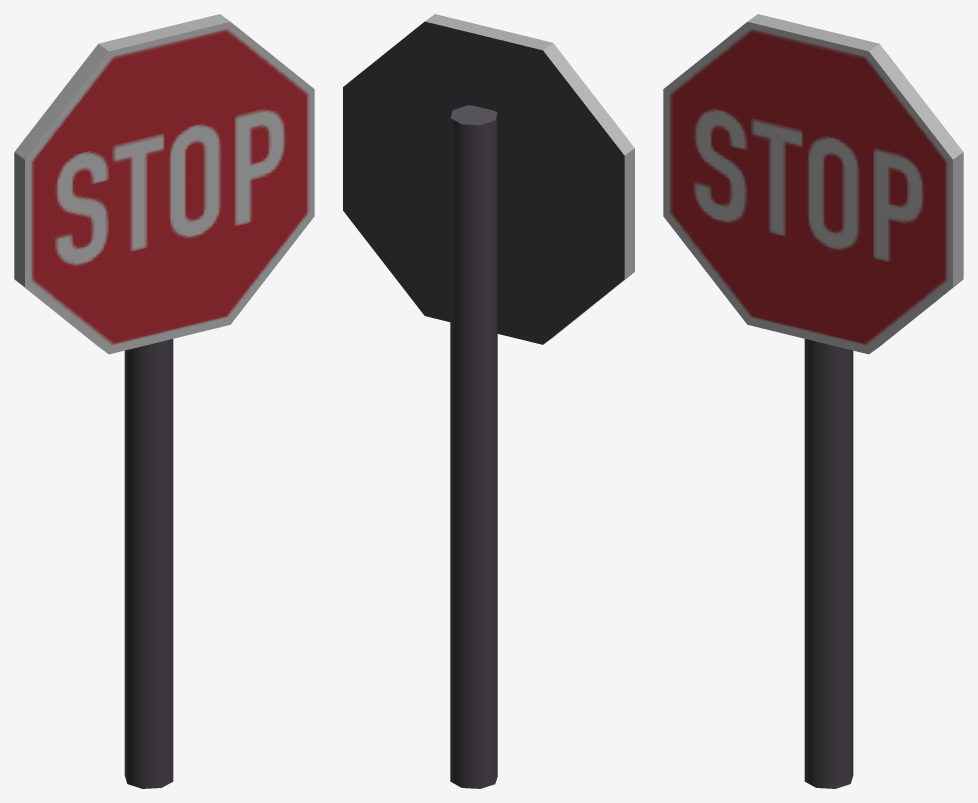
File: Sign_Stop.fbx
The picture shows the model from 3 angles, left to right: view 1: azimuth 30°, elevation 25°; view 2: azimuth 150°, elevation 25°; view 3: azimuth 330°, elevation 25°; orthographic projection. The views are drawn at different scales.
Parts seen in each view (by area): view 1: Sign_Stop; view 2: Sign_Stop; view 3: Sign_Stop.
Boxes of the visible parts, x1,y1,x2,y2 form: Sign_Stop: [14, 14, 314, 788]; Sign_Stop: [343, 14, 634, 788]; Sign_Stop: [663, 14, 963, 788].
Bounding box in the file's own units: 116 × 289 × 23.02.
